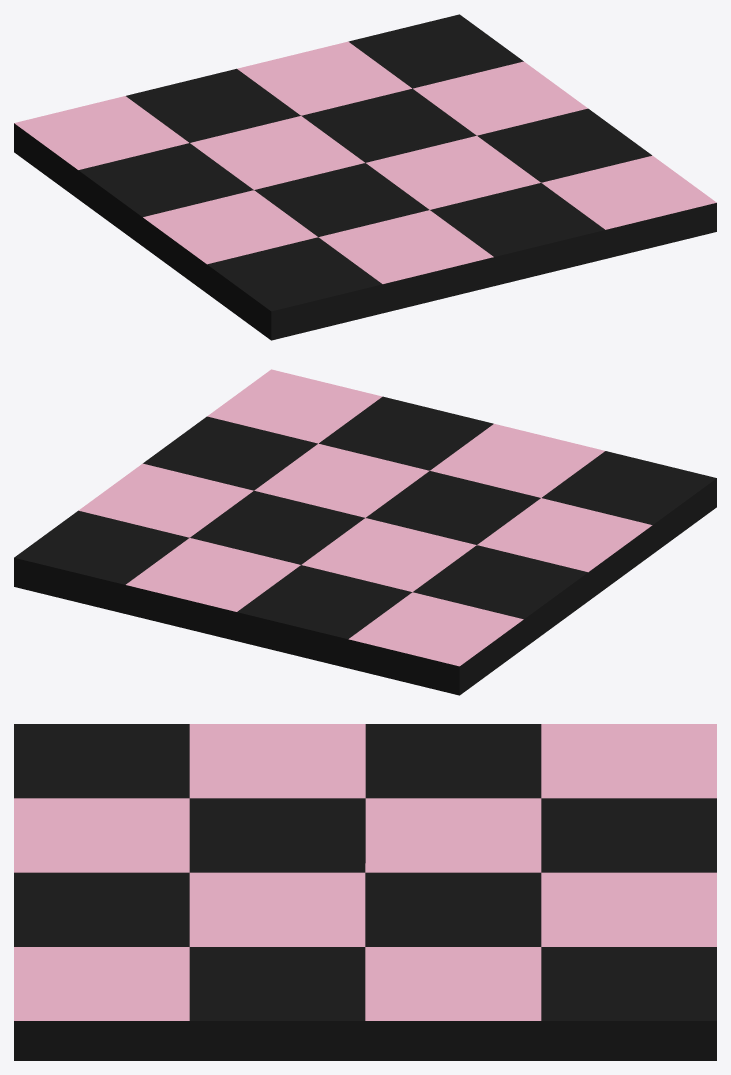
File: ASTHETIC Floor Tile 4x4 ONE SQ.glb
3 renders of one model, top to bottom at view 1: azimuth 30°, elevation 25°; view 2: azimuth 150°, elevation 25°; view 3: azimuth 270°, elevation 25°, orthographic. The views are drawn at different scales.
Parts seen in each view (by area): view 1: group735054256; view 2: group735054256; view 3: group735054256.
Part boxes in pixels (x1,y1,x2,y2): group735054256: (14, 14, 716, 340); group735054256: (14, 369, 716, 695); group735054256: (14, 724, 716, 1060).
Bounding box in the file's own units: 0.32 × 0.02 × 0.32.
